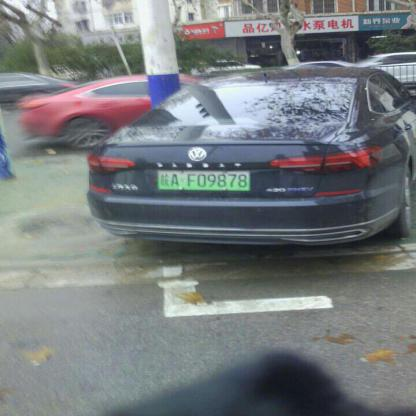lp: (157, 172, 250, 190)
